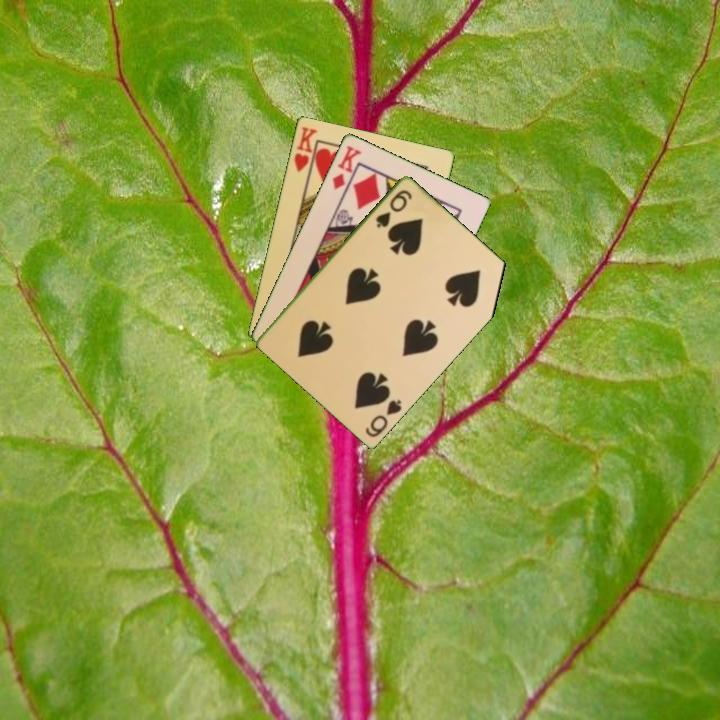6s: (361, 395, 405, 440), (372, 186, 415, 230)
Kd: (328, 141, 364, 192)
Kh: (290, 123, 320, 181)
